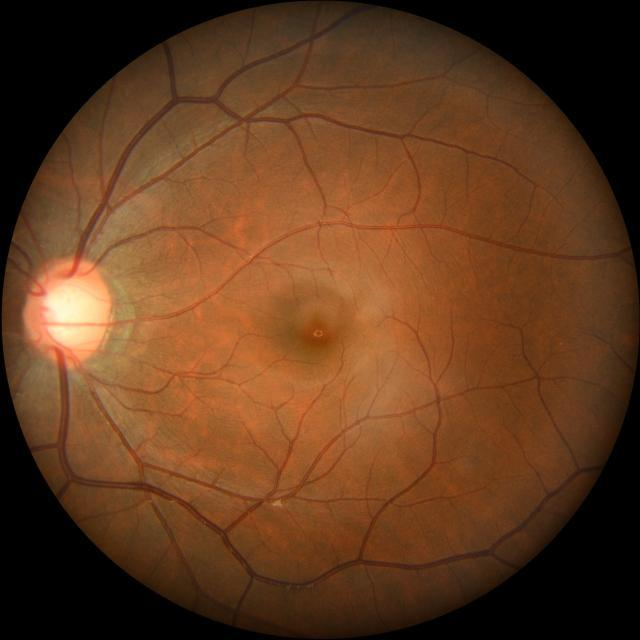OC: (40, 276, 96, 348)
OD: (24, 258, 112, 364)
